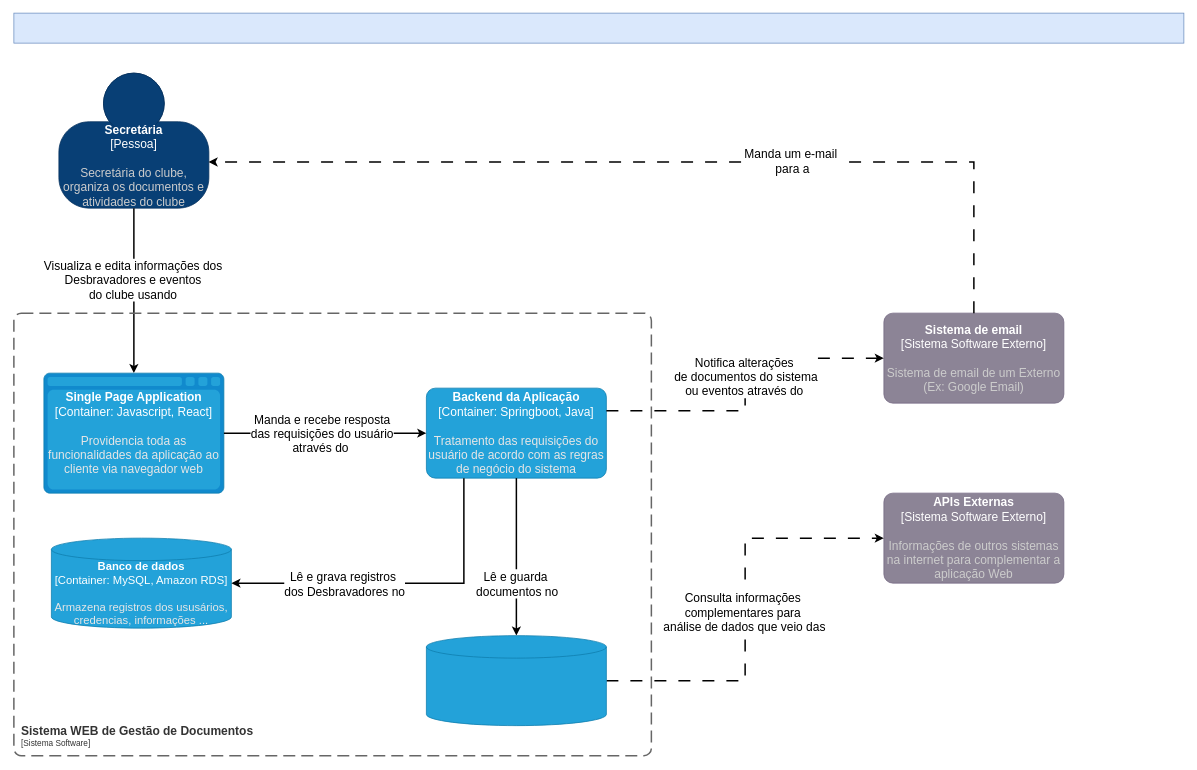
Some shapes in this 1197 by 770 pixel diagram are drawn without their labels. The centre of each missing label's shape, as x and y in pixels:
"Arquitetura de Software Arandu Digital modelo C4 - Nível 2 - Container" belongs at pixel 598 27.
"Bucket de documentos [Container: AWS S3] Armazena documentos do clube" belongs at pixel 516 680.
